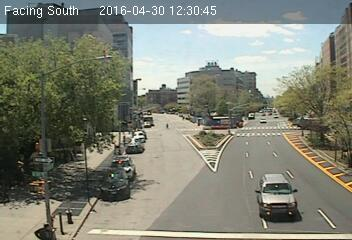neg: (127, 36, 153, 71), (174, 85, 200, 119), (259, 171, 284, 205), (195, 140, 220, 173), (307, 100, 332, 132), (12, 61, 36, 93), (98, 71, 118, 98), (25, 149, 45, 175), (66, 203, 85, 227), (63, 66, 81, 90), (258, 48, 276, 72), (209, 43, 226, 66)
pos: (33, 214, 51, 239)
